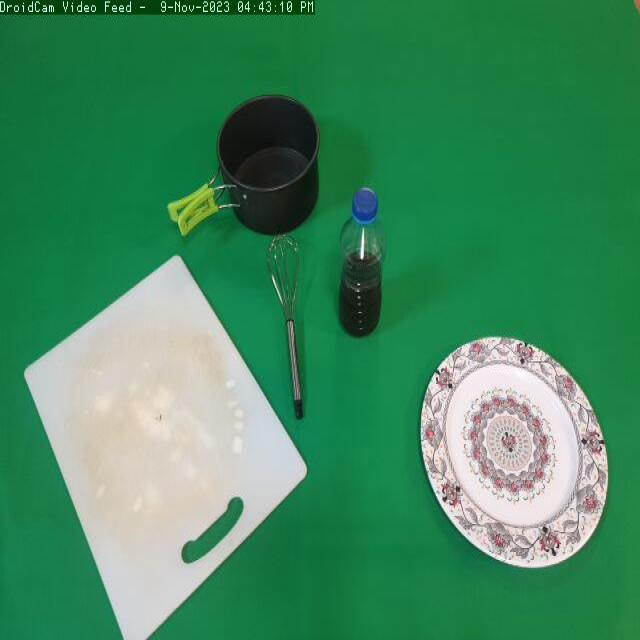cutting board: (21, 252, 317, 640)
fullbottle: (331, 183, 387, 347)
plate: (418, 327, 620, 596)
pot: (166, 89, 325, 244)
whisk: (265, 231, 319, 424)
